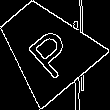P_NW: (15, 16, 77, 78)
